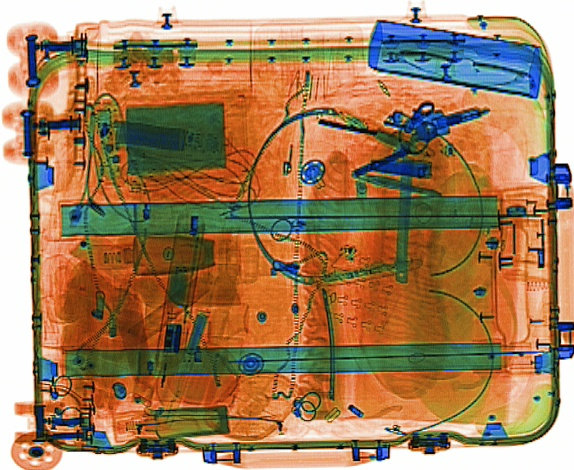powerbank: (109, 118, 227, 157)
